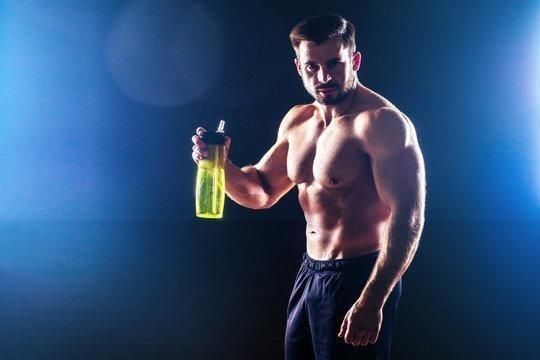gym bottle: (193, 119, 231, 220)
